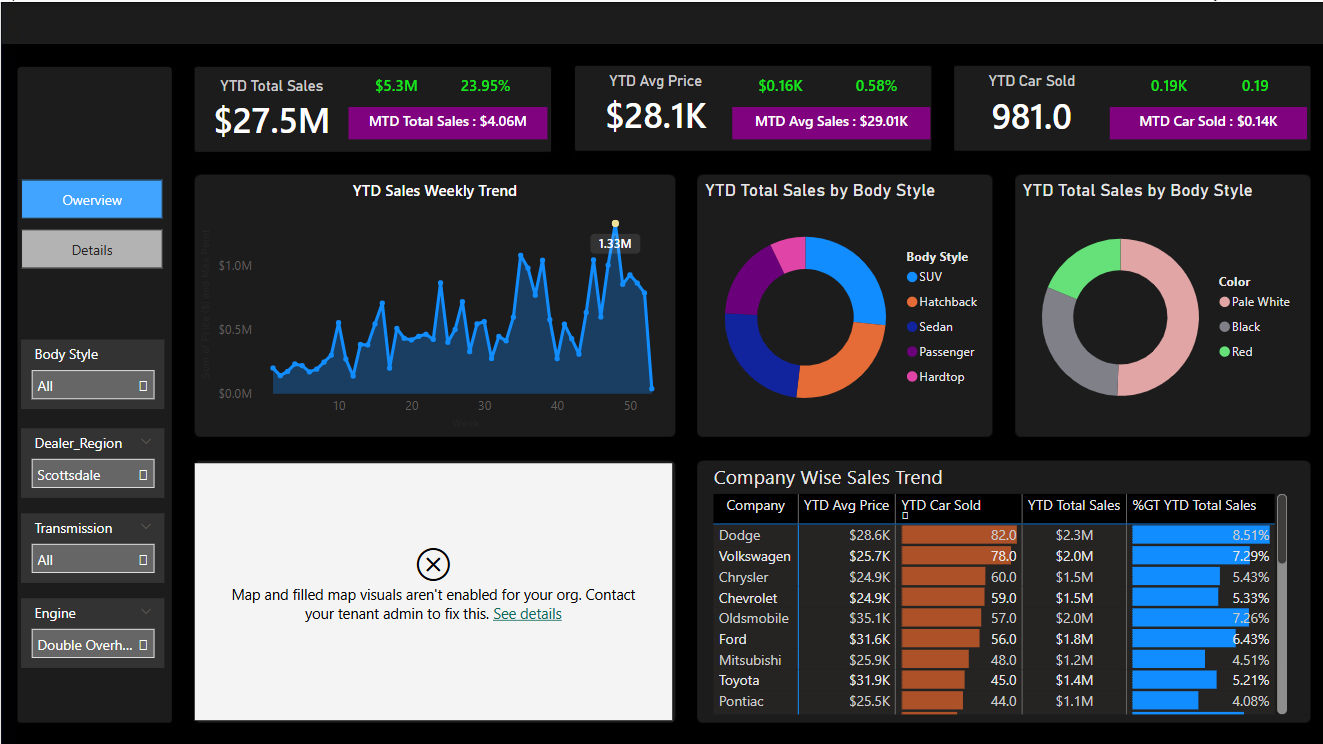

The dashboard page shown, as its layout file describes it:
{"tool":"powerbi","page":{"name":"Owerview","canvas":[1280,720],"ordinal":0},"visuals":[{"type":"card","title":"YTD Total Sales","fields":{"Values":["car_data.YTD Total Sales"]},"box":[187,72.4,148.4,66.4],"z":0},{"type":"card","title":"PYTD Total Sales","fields":{"Values":["car_data.Sales Difference"]},"box":[335.4,65.1,92.9,36.2],"z":1000},{"type":"card","title":"PYTD Total Sales","fields":{"Values":["car_data.YOY Sales Growth"]},"box":[419.8,65.1,96.5,36.2],"z":2000},{"type":"card","fields":{"Values":["car_data.MTD KPI"]},"box":[335.4,101.3,191.8,31.4],"z":3000},{"type":"card","title":"YTD Avg Price","fields":{"Values":["car_data.YTD Avg Price"]},"box":[557,68,148.7,66.8],"z":4000},{"type":"card","title":"PYTD Total Sales","fields":{"Values":["car_data.Avg Price Diff"]},"box":[705.7,65.5,93.2,35.3],"z":5000},{"type":"card","title":"PYTD Total Sales","fields":{"Values":["car_data.YOY Avg Price"]},"box":[798.9,65.5,93.2,35.3],"z":6000},{"type":"card","fields":{"Values":["car_data.MTD Avg Price KPI"]},"box":[705.7,100.8,191.5,31.5],"z":7000},{"type":"card","title":"YTD Car Sold","fields":{"Values":["car_data.YTD Car Sold"]},"box":[932.5,68,148.7,66.8],"z":8000},{"type":"card","title":"PYTD Total Sales","fields":{"Values":["car_data.Car Sold Diff"]},"box":[1081.2,65.5,93.2,35.3],"z":9000},{"type":"card","title":"PYTD Total Sales","fields":{"Values":["car_data.YOY Car Sold Growth"]},"box":[1164.3,65.5,93.2,35.3],"z":10000},{"type":"card","fields":{"Values":["car_data.MTD Car Sold KPI"]},"box":[1066,100.8,191.5,31.5],"z":11000},{"type":"areaChart","title":"YTD  Sales Weekly Trend","fields":{"Category":["Calender Table.Week"],"Y":["Sum(car_data.Price ($))","car_data.Max Point"]},"box":[186.5,171.4,463.7,247],"z":12000},{"type":"donutChart","fields":{"Category":["car_data.Body Style"],"Y":["car_data.YTD Total Sales"]},"box":[674.4,171.3,282.3,247.3],"z":13000},{"type":"donutChart","title":"YTD Total Sales by Color","fields":{"Category":["car_data.Color"],"Y":["car_data.YTD Total Sales"]},"box":[980.8,171.3,277.5,247.3],"z":14000},{"type":"map","fields":{"Size":["car_data.YTD Car Sold"],"Category":["car_data.Dealer_Region"]},"box":[187.2,445.4,460.5,247.6],"z":15000},{"type":"pivotTable","title":"Company Wise Sales Trend","fields":{"Rows":["car_data.Company"],"Values":["car_data.YTD Avg Price","car_data.YTD Car Sold","car_data.YTD Total Sales1","car_data.YTD Total Sales"]},"box":[682.4,445.4,563.2,247.6],"z":16000},{"type":"textbox","box":[436.7,0,495.8,45.8],"z":17000},{"type":"slicer","fields":{"Values":["car_data.Body Style"]},"box":[19.3,325.7,138.7,67.6],"z":18000},{"type":"slicer","fields":{"Values":["car_data.Dealer_Region"]},"box":[19.3,411.4,138.7,67.6],"z":19000},{"type":"slicer","fields":{"Values":["car_data.Transmission"]},"box":[19.3,493.4,138.7,67.6],"z":20000},{"type":"slicer","fields":{"Values":["car_data.Engine"]},"box":[19.3,575.5,138.7,67.6],"z":21000},{"type":"textbox","box":[20.5,67.6,137.5,41],"z":22000},{"type":"textbox","box":[22.9,127.9,70,32.6],"z":23000},{"type":"pageNavigator","box":[18.8,172.5,137.5,87.5],"z":24000}]}

Visuals, with their boxes in screenshot pixels (x1, y1, x2, y2), scaled from the page's 1280x720 canvas onto the 1323x744 screenshot:
"YTD Total Sales" card: bbox(193, 75, 347, 143)
"PYTD Total Sales" card: bbox(347, 67, 443, 105)
"PYTD Total Sales" card: bbox(434, 67, 534, 105)
card - car_data.MTD KPI: bbox(347, 105, 545, 137)
"YTD Avg Price" card: bbox(576, 70, 729, 139)
"PYTD Total Sales" card: bbox(729, 68, 826, 104)
"PYTD Total Sales" card: bbox(826, 68, 922, 104)
card - car_data.MTD Avg Price KPI: bbox(729, 104, 927, 137)
"YTD Car Sold" card: bbox(964, 70, 1118, 139)
"PYTD Total Sales" card: bbox(1118, 68, 1214, 104)
"PYTD Total Sales" card: bbox(1203, 68, 1300, 104)
card - car_data.MTD Car Sold KPI: bbox(1102, 104, 1300, 137)
"YTD  Sales Weekly Trend" areaChart: bbox(193, 177, 672, 432)
donutChart - car_data.Body Style x car_data.YTD Total Sales: bbox(697, 177, 989, 433)
"YTD Total Sales by Color" donutChart: bbox(1014, 177, 1301, 433)
map - car_data.YTD Car Sold x car_data.Dealer_Region: bbox(193, 460, 669, 716)
"Company Wise Sales Trend" pivotTable: bbox(705, 460, 1287, 716)
textbox: bbox(451, 0, 964, 47)
slicer - car_data.Body Style: bbox(20, 337, 163, 406)
slicer - car_data.Dealer_Region: bbox(20, 425, 163, 495)
slicer - car_data.Transmission: bbox(20, 510, 163, 580)
slicer - car_data.Engine: bbox(20, 595, 163, 665)
textbox: bbox(21, 70, 163, 112)
textbox: bbox(24, 132, 96, 166)
pageNavigator: bbox(19, 178, 162, 269)
